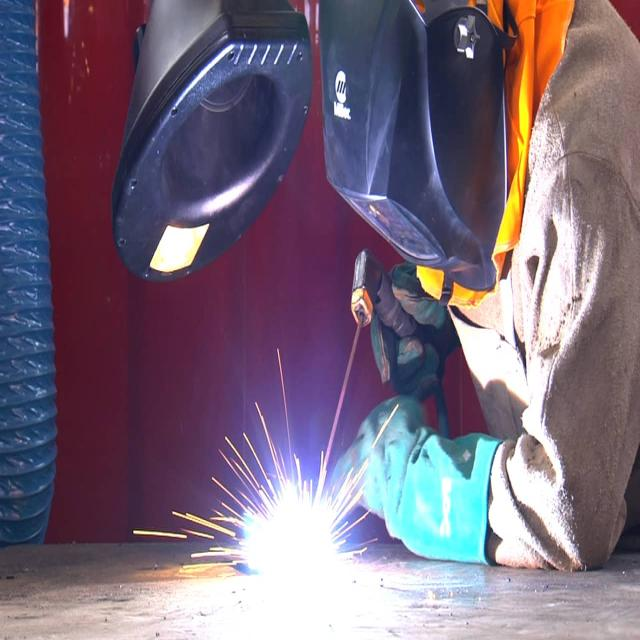welding: (247, 488, 342, 599)
